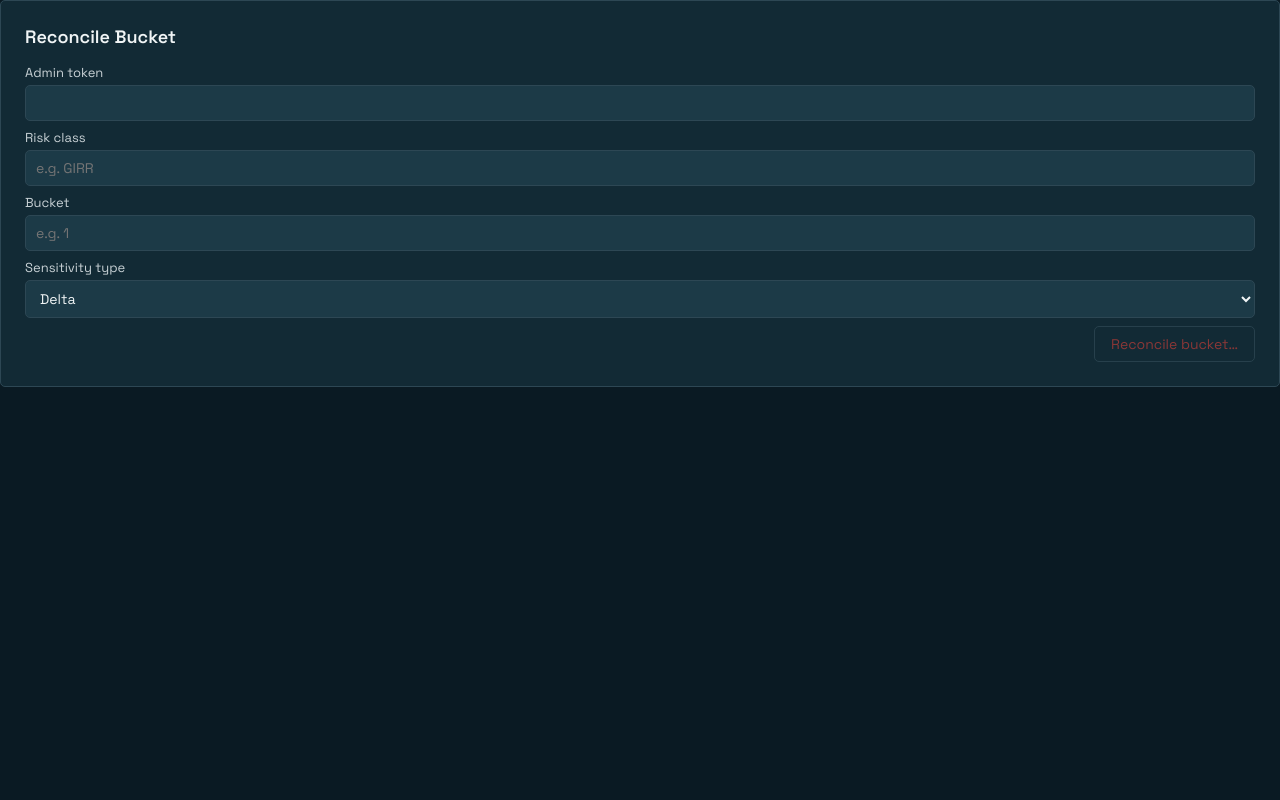
Test: <ReconcileBucketAction /> › surfaces a 401 from the server in the result area
Type "bogus" into the password field with test id "reconcile-token" at [640, 103], box [25,85,1255,121]
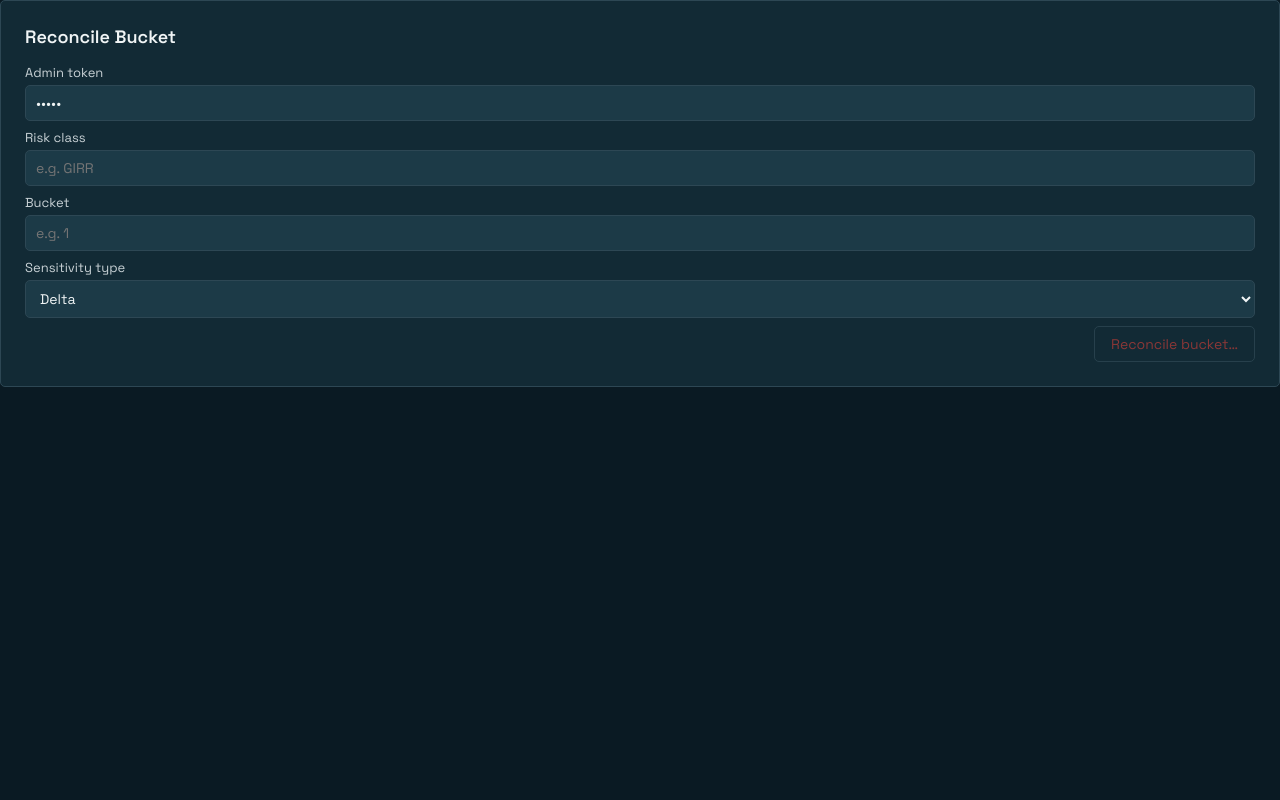
Type "GIRR" into the field with test id "reconcile-risk-class" at [640, 168], box [25,150,1255,186]
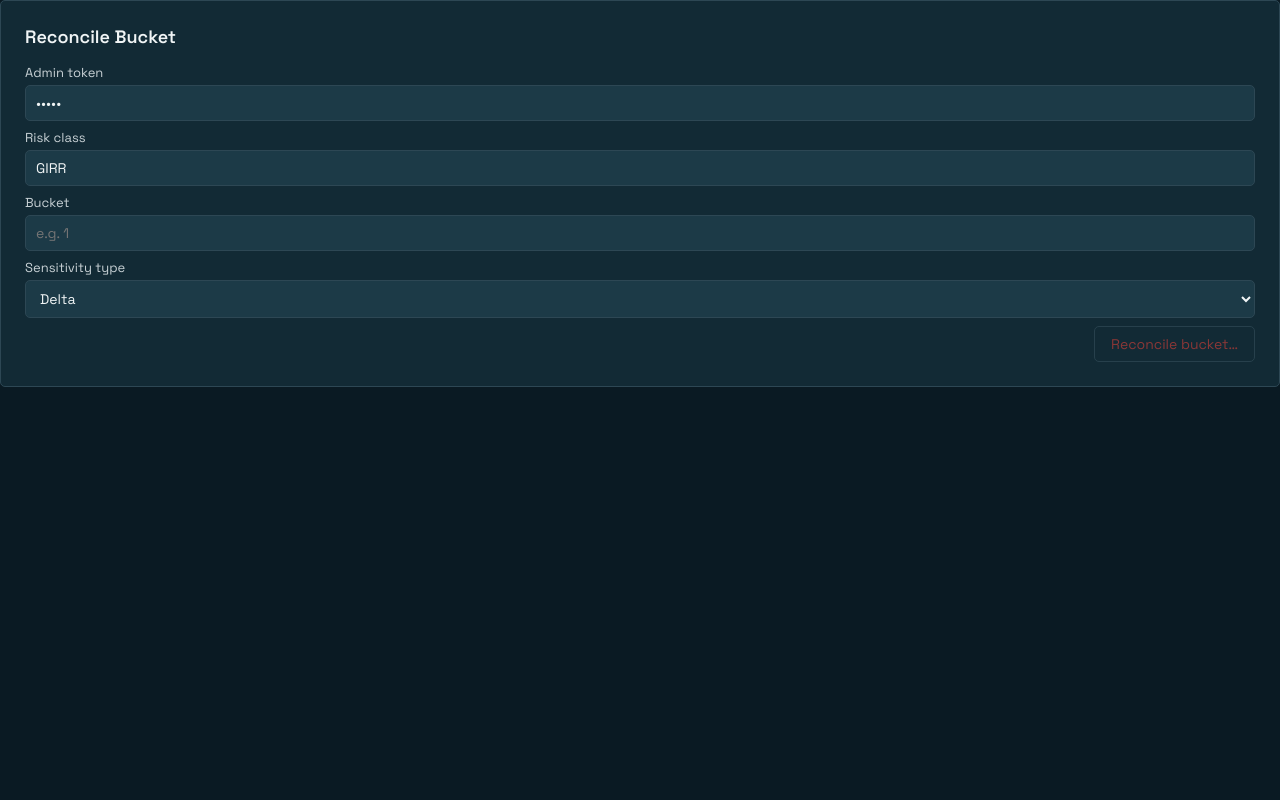
Type "1" into the field with test id "reconcile-bucket" at [640, 233], box [25,215,1255,251]
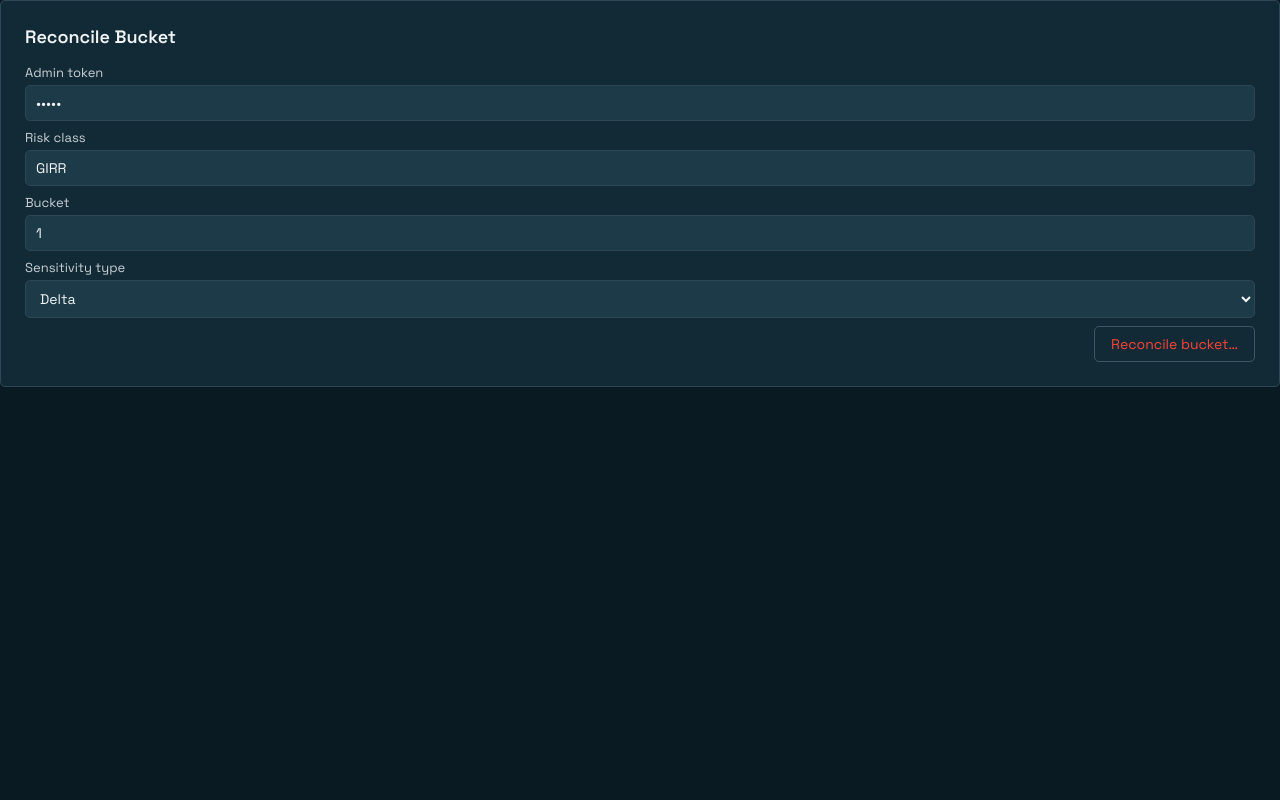
Click the button with test id "reconcile-submit" at [1175, 344], box [1094,326,1255,362]
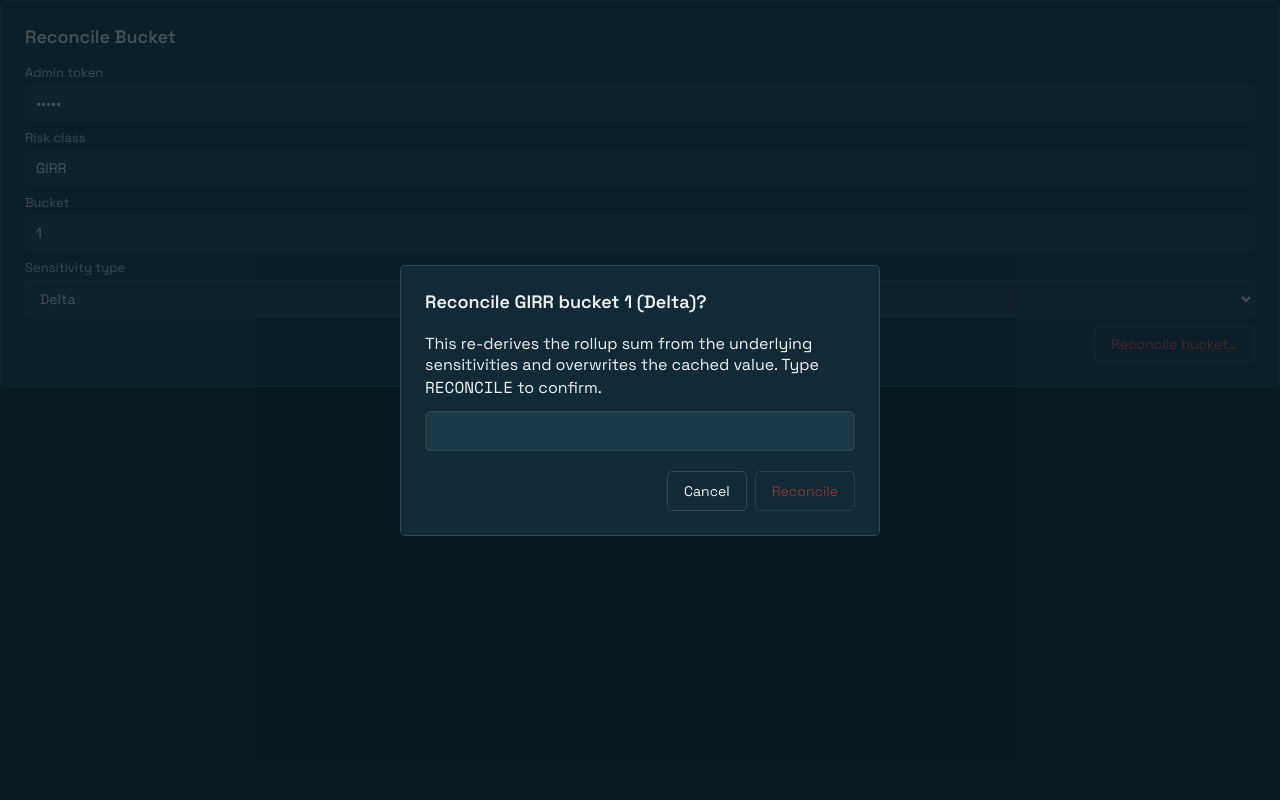
Type "RECONCILE" into the field with test id "reconcile-confirm-input" at [640, 430], box [425,410,855,450]
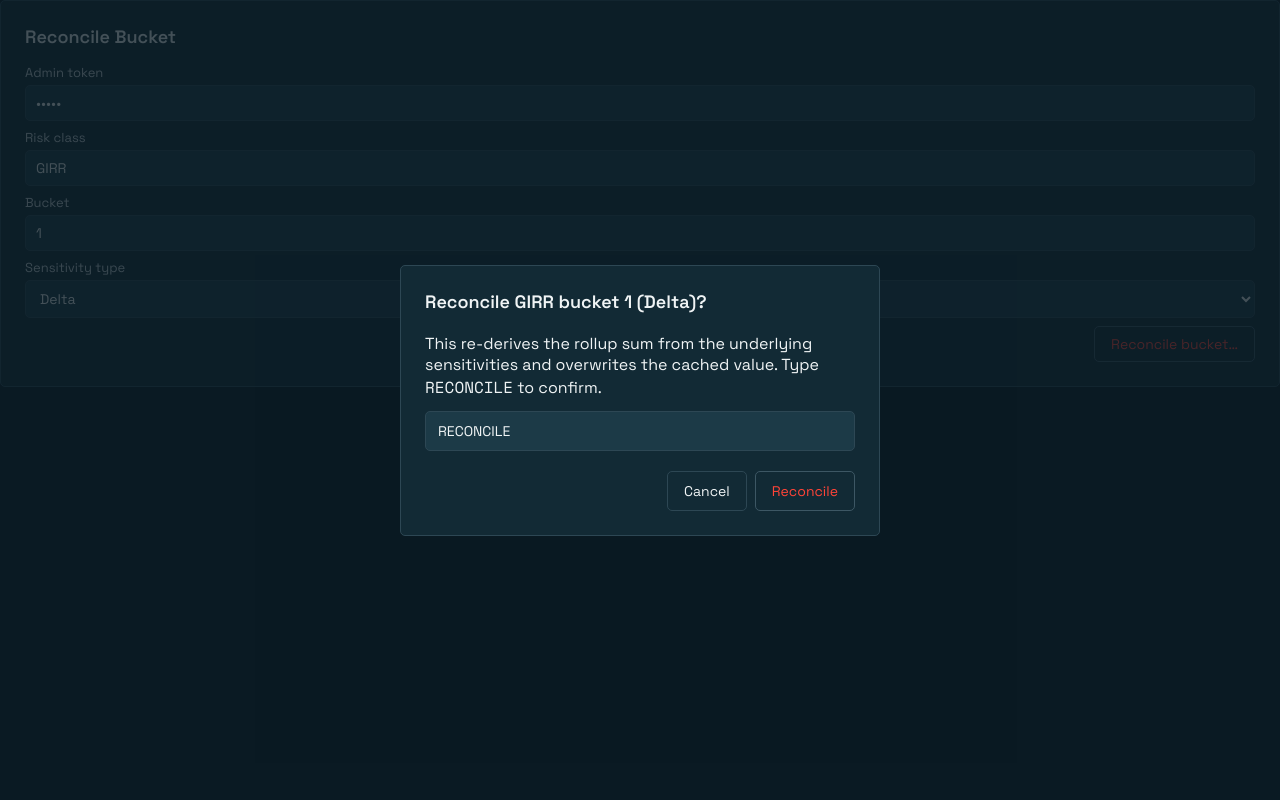
Click the button with test id "reconcile-confirm" at [805, 490], box [755,470,855,510]
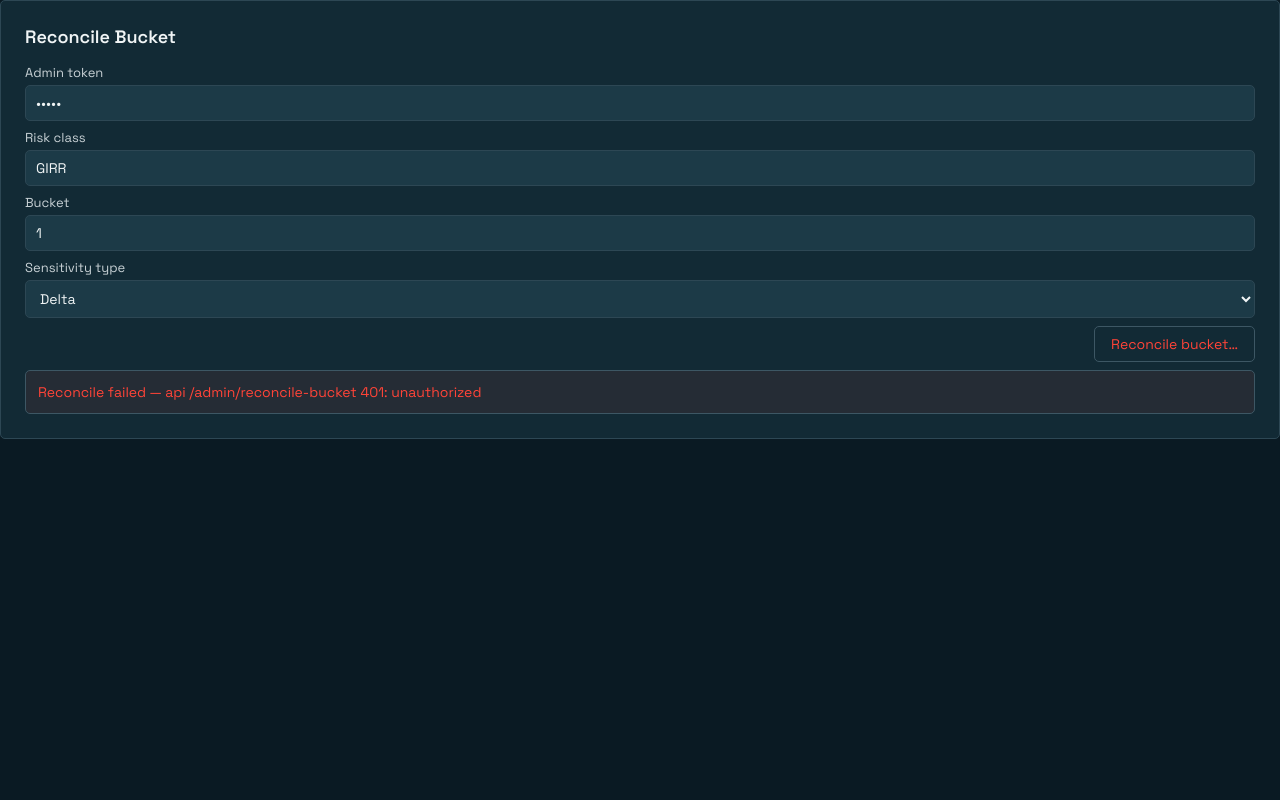
Check: the message reads "Reconcile failed — api /admin/reconcile-bucket 401: unauthorized", box [165,383,482,401]
